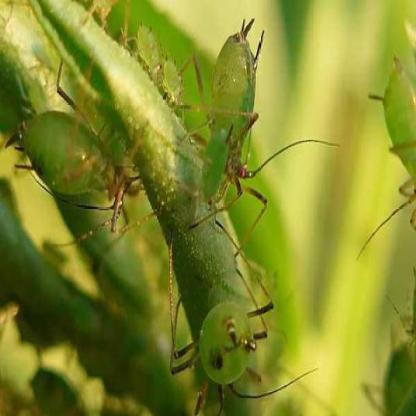aphid: (11, 79, 143, 225), (165, 270, 299, 410), (189, 14, 267, 213), (376, 54, 416, 235), (358, 320, 415, 416), (130, 18, 170, 80), (160, 51, 188, 115)
